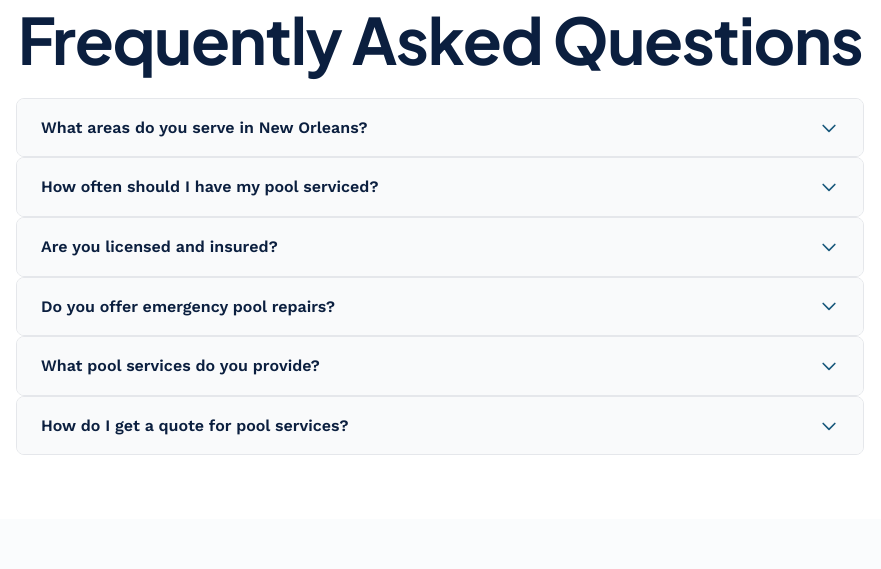
FAQ Component › Clicking question toggles answer visibility › hides answer when question is clicked again
This screenshot has width=881, height=569.
Note: Open FAQ
Step 1. Click the button "What areas do you serve in New Orleans?" → (204, 127), box [17,99,863,156]
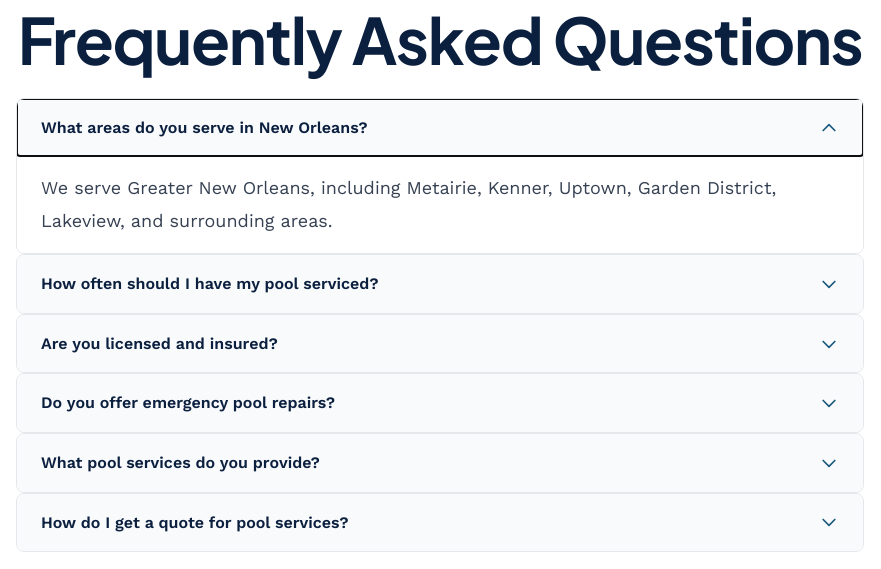
Expected: the text "We serve Greater New Orleans" is shown, [41,177,776,231]
Note: Close FAQ
Step 2. Click the button "What areas do you serve in New Orleans?" → (204, 127), box [17,99,863,156]
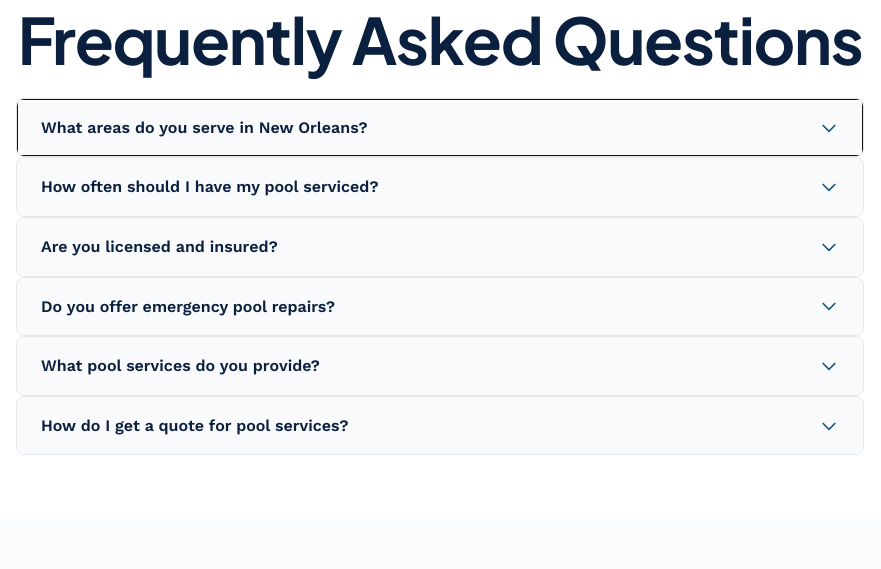
Expected: the text "We serve Greater New Orleans" is gone
